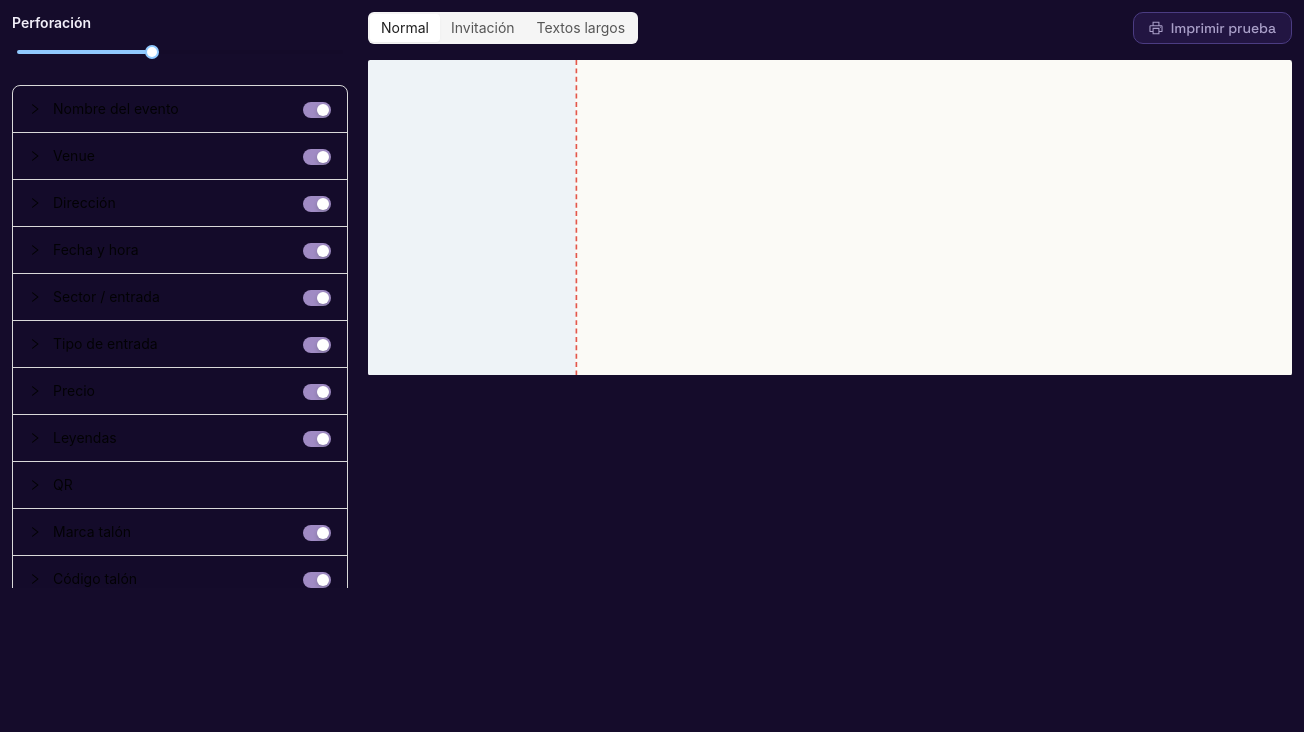
Test: TicketDesigner › las zonas de texto que antes no tenían control (código, leyendas, tipo) ahora eligen fuente
Check: the text "Precio" is shown, box top-left (53, 382), bottom-right (95, 399)
Click the button "Código talón" at (95, 578), box top-left (29, 570), bottom-right (331, 588)
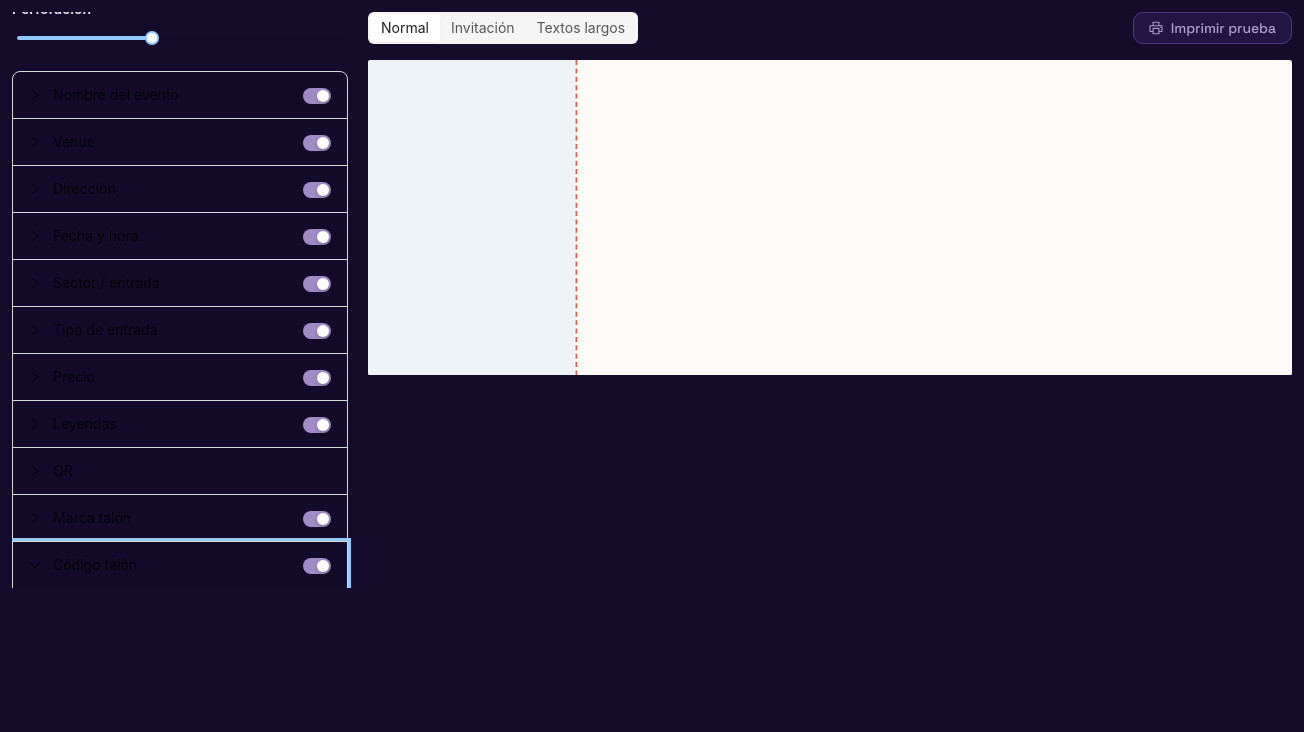
Click the button "Leyendas" at (85, 423), box top-left (29, 415), bottom-right (331, 433)
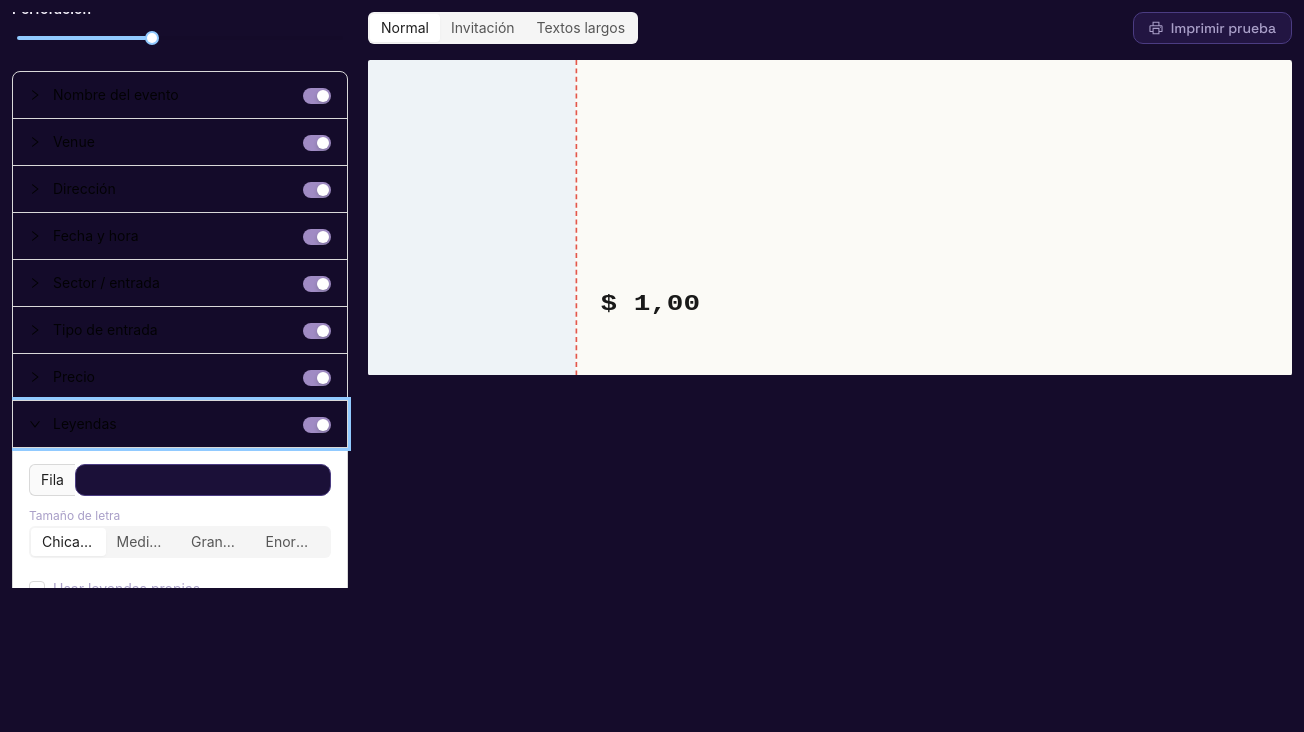
Check: the text "Tamaño de letra" is shown, box top-left (29, 508), bottom-right (120, 523)
Check: the radio button labelled "Chica (1,9 mm)" is checked, box top-left (31, 528), bottom-right (106, 556)
Click the button "Tipo de entrada" at (105, 329), box top-left (29, 321), bottom-right (331, 339)
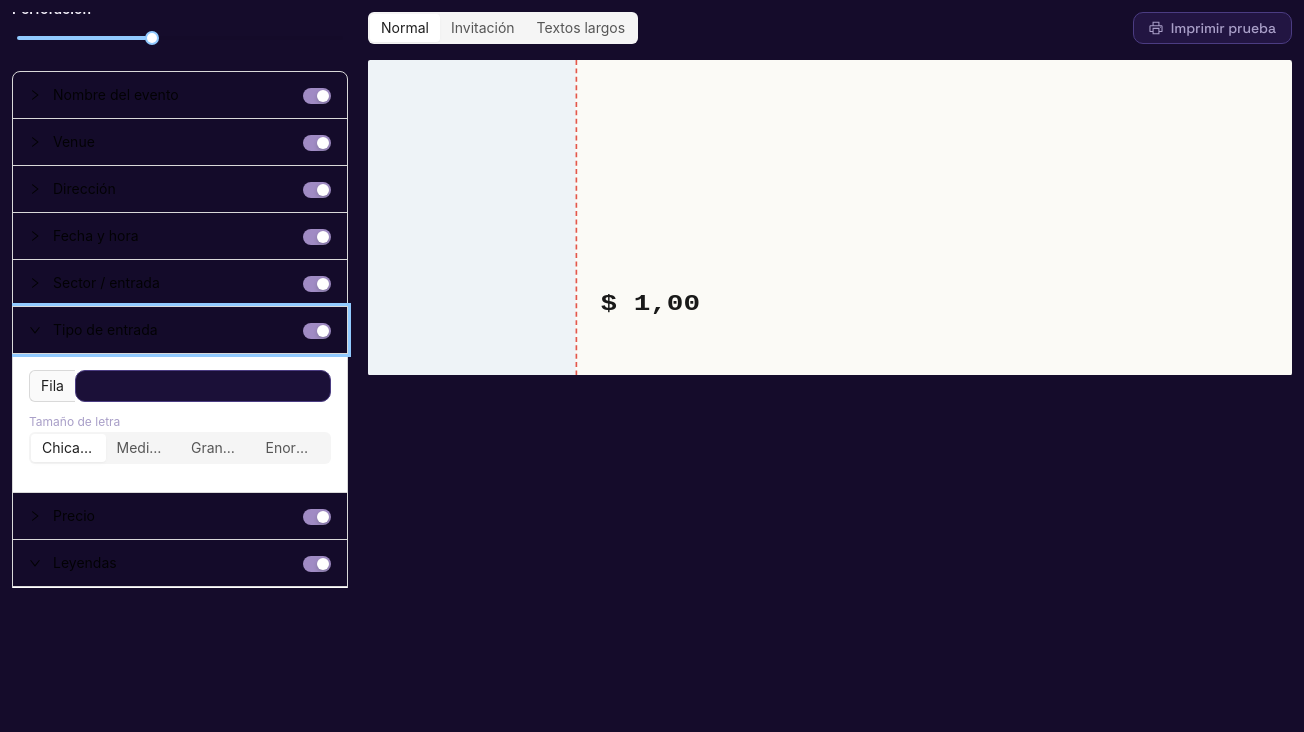
Check: the text "Tamaño de letra" is shown, box top-left (29, 414), bottom-right (120, 429)
Check: the radio button labelled "Chica (1,9 mm)" is checked, box top-left (31, 434), bottom-right (106, 462)
